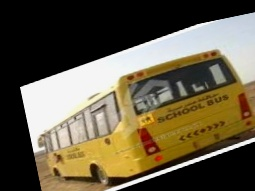bus: (19, 36, 255, 191)
